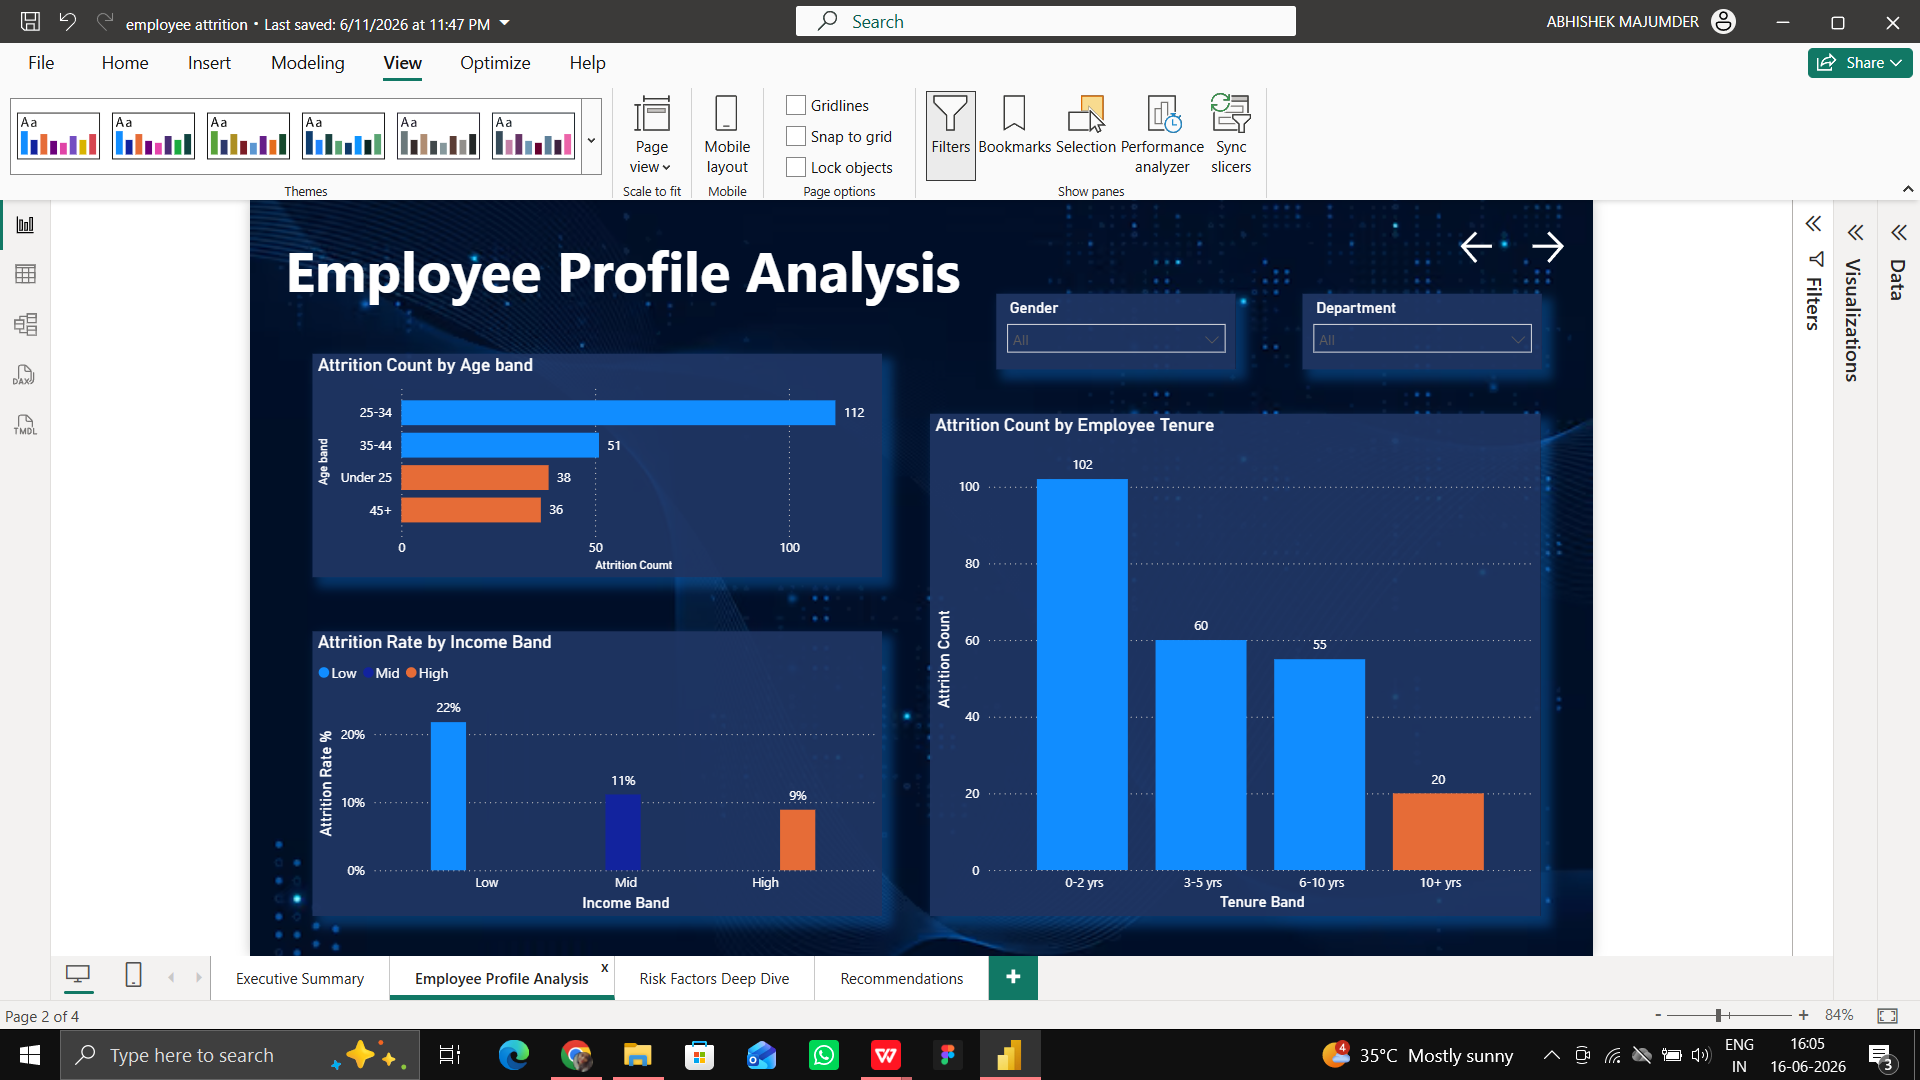

The page's visual inventory and layout, read from the dashboard file:
{"tool":"powerbi","page":{"name":"Employee Profile Analysis","canvas":[1280,720],"ordinal":1},"visuals":[{"type":"clusteredBarChart","title":"Attrition Count  by Age band","fields":{"Category":["Employee.Age band"],"Y":["Sum(Employee.Attrition Flag)"]},"box":[59.3,146.9,542.7,213],"z":0},{"type":"textbox","box":[28,25,660,100],"z":1000},{"type":"clusteredColumnChart","title":"Attrition Count by Employee Tenure ","fields":{"Category":["Employee.Tenure Band"],"Y":["Sum(Employee.Attrition Flag)"]},"box":[647.8,203.3,581.6,478.5],"z":2000},{"type":"clusteredColumnChart","title":"Attrition Rate  by Income Band","fields":{"Category":["Employee.Income Band"],"Y":["Employee.Attrition Rate %"],"Series":["Employee.Income Band"]},"box":[59.3,410.5,542.7,271.4],"z":3000},{"type":"slicer","fields":{"Values":["Employee.Gender"]},"box":[711,89,228,72],"z":4000},{"type":"slicer","fields":{"Values":["Employee.Department"]},"box":[1002,89,228,72],"z":5000},{"type":"actionButton","box":[1215,25,49,40],"z":6000},{"type":"actionButton","box":[1149,25,51,40],"z":7000}]}

Visuals, with their boxes on the page's 1280x720 design canvas (x1, y1, x2, y2). These are canvas units, not pixel positions in the 1920x1080 screenshot, which may show the page scaled, cropped or inside an application window:
"Attrition Count  by Age band" clusteredBarChart: detection(59, 147, 602, 360)
textbox: detection(28, 25, 688, 125)
"Attrition Count by Employee Tenure " clusteredColumnChart: detection(648, 203, 1229, 682)
"Attrition Rate  by Income Band" clusteredColumnChart: detection(59, 410, 602, 682)
slicer - Employee.Gender: detection(711, 89, 939, 161)
slicer - Employee.Department: detection(1002, 89, 1230, 161)
actionButton: detection(1215, 25, 1264, 65)
actionButton: detection(1149, 25, 1200, 65)
